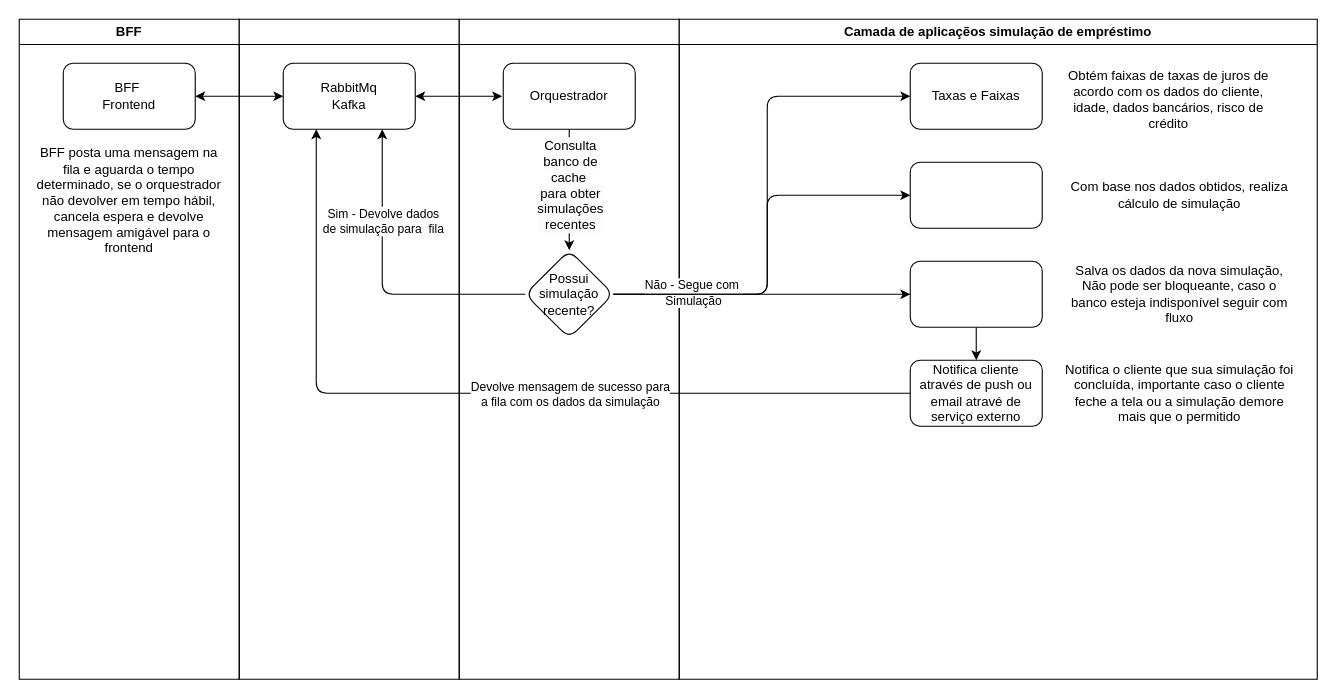
The diagram is 1337 pixels wide and 699 high, and some of its shapes have lost their labels. The shapes that lost their labels are listed below. From the top down, each one's box as (x1, y1, x2, y2) in pixels, then its label:
(909, 161, 1042, 228): Realiza cálculo e monta retorno de simulação
(909, 260, 1042, 327): Salva dados de simulação no banco de cache
(238, 18, 459, 679): Fila Simulação Empréstimo
(458, 18, 679, 679): Orquestrador de Cálculo
